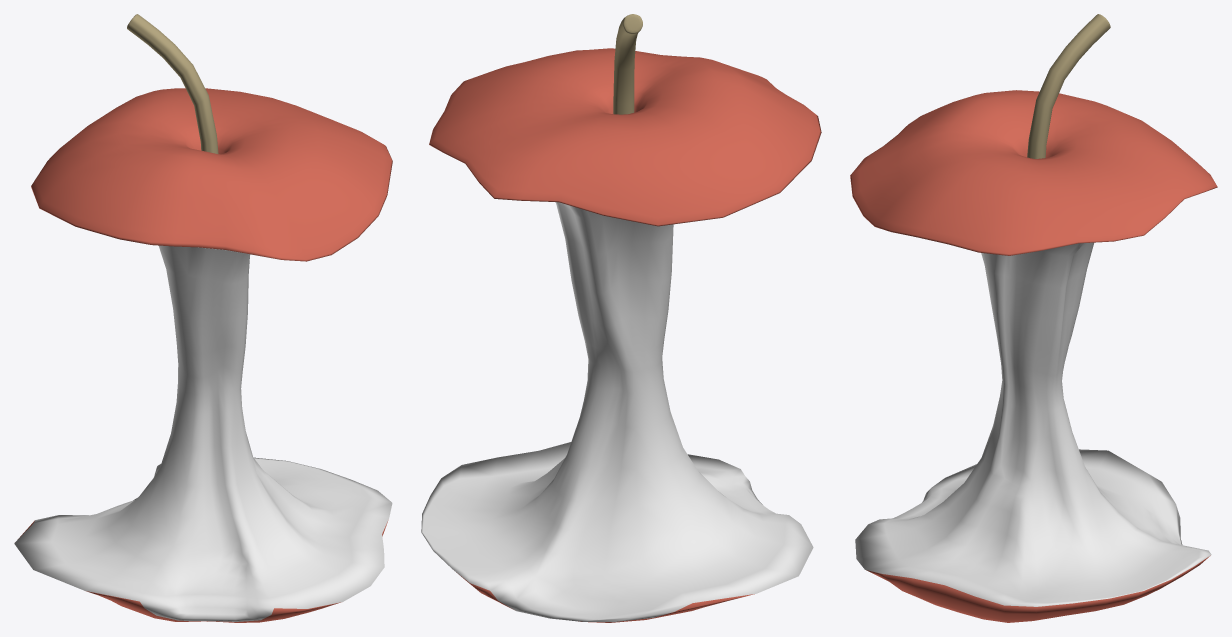
File: apple1.fbx
The picture shows the model from 3 angles, left to right: view 1: azimuth 30°, elevation 25°; view 2: azimuth 150°, elevation 25°; view 3: azimuth 270°, elevation 25°; orthographic projection. The views are drawn at different scales.
Visible parts, largest first — view 1: RedApple; view 2: RedApple; view 3: RedApple.
Boxes of the visible parts, bbox=[...] form: RedApple: bbox=[14, 14, 392, 622]; RedApple: bbox=[421, 14, 821, 622]; RedApple: bbox=[850, 14, 1217, 622].
Bounding box in the file's own units: 212 × 331 × 204.
